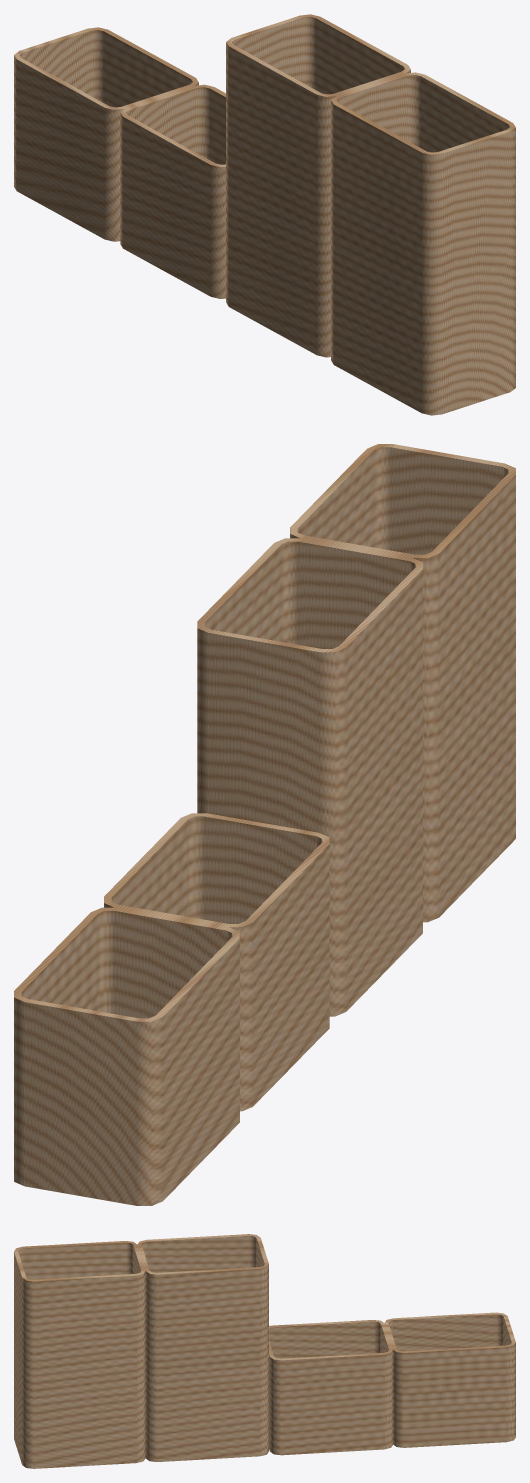
File: bitong.fbx
The picture shows the model from 3 angles, top to bottom: view 1: azimuth 30°, elevation 25°; view 2: azimuth 150°, elevation 25°; view 3: azimuth 270°, elevation 25°; orthographic projection. The views are drawn at different scales.
Visible parts, largest first — view 1: bitong; view 2: bitong; view 3: bitong.
Part boxes in pixels (bbox=[...]): bitong: bbox=[14, 14, 515, 415]; bitong: bbox=[14, 444, 515, 1205]; bitong: bbox=[14, 1234, 515, 1468].
Size of the model in its own units: 7.02 by 9.97 by 24.2.
